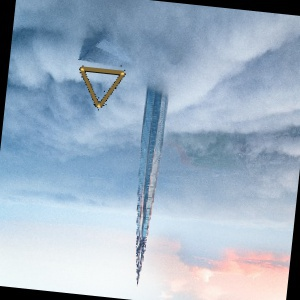triangle: (77, 62, 126, 110)
